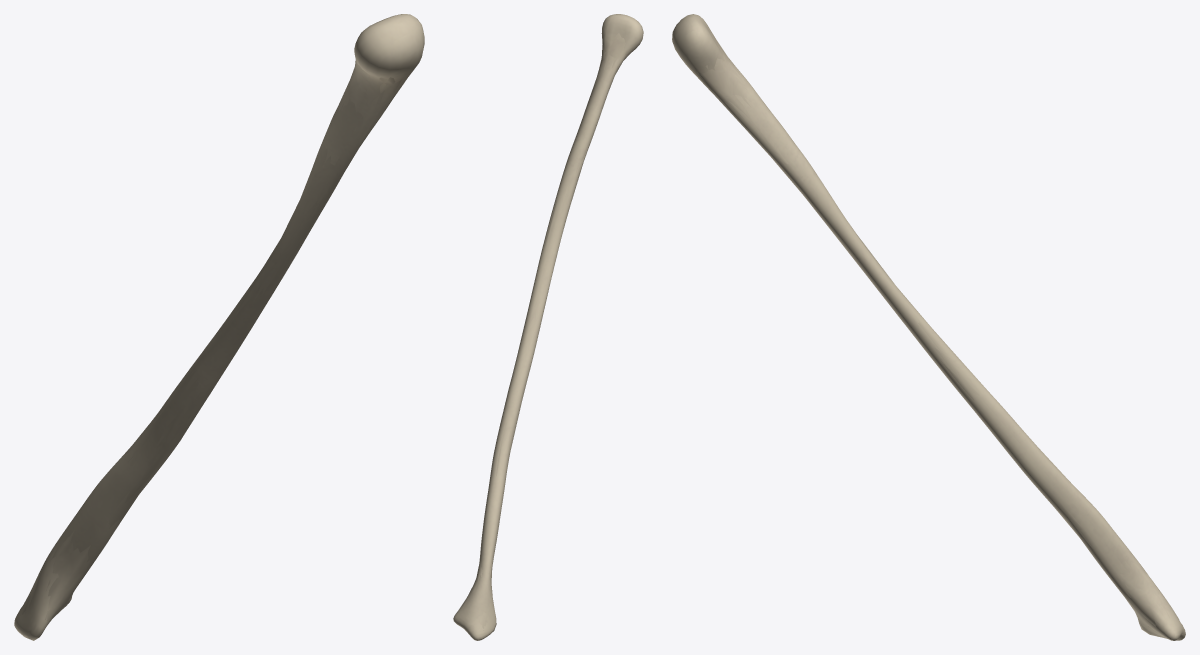
The model's file is R Fibula.fbx.
3 views of the same model, side by side, from view 1: azimuth 30°, elevation 25°; view 2: azimuth 150°, elevation 25°; view 3: azimuth 270°, elevation 25° (orthographic). The views are drawn at different scales.
Visible parts, largest first — view 1: R Fibula high, R Fibula low; view 2: R Fibula high, R Fibula low; view 3: R Fibula high, R Fibula low.
Part boxes in pixels (box(x1,y1,x2,y2)): R Fibula high: box(14, 14, 424, 640); R Fibula low: box(19, 60, 401, 623); R Fibula high: box(453, 14, 643, 640); R Fibula low: box(459, 33, 632, 633); R Fibula high: box(672, 14, 1185, 640); R Fibula low: box(697, 33, 1182, 637).
Size of the model in its own units: 3.74 by 28.34 by 20.44.
